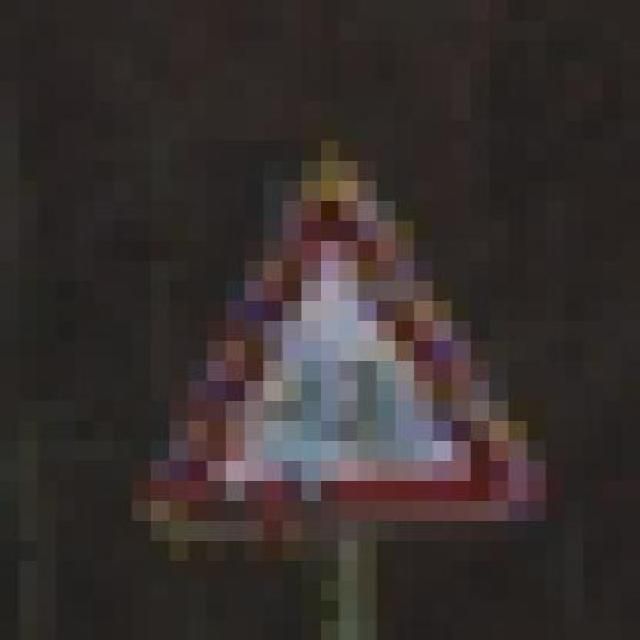CYCLE ROUTE AHEAD WARNING: (76, 120, 546, 560)
